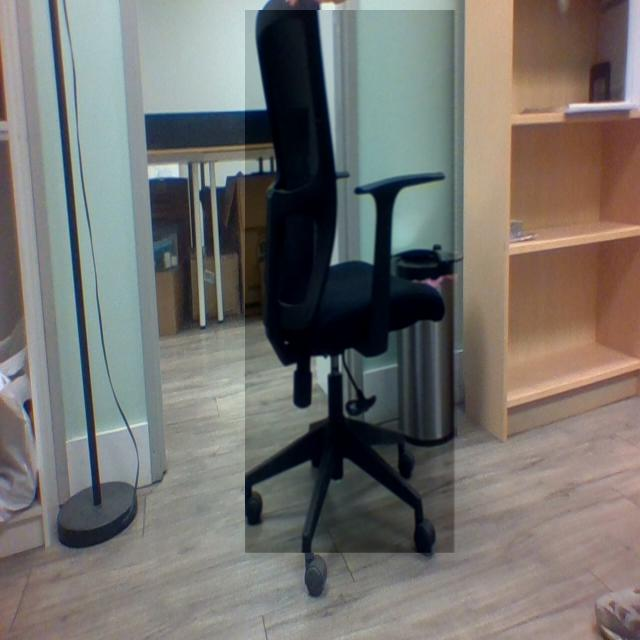black-chair: (245, 10, 458, 554)
